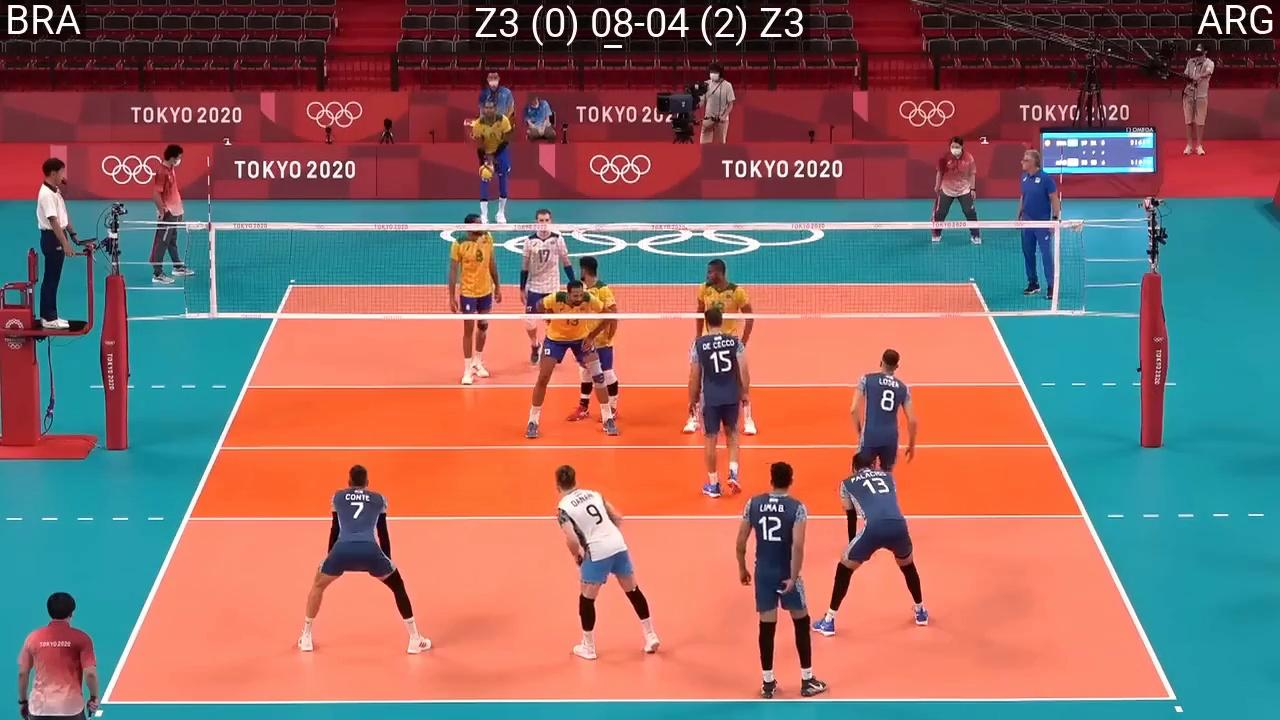ball: (478, 164, 496, 180)
